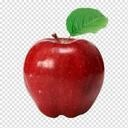apple: (23, 32, 107, 119)
